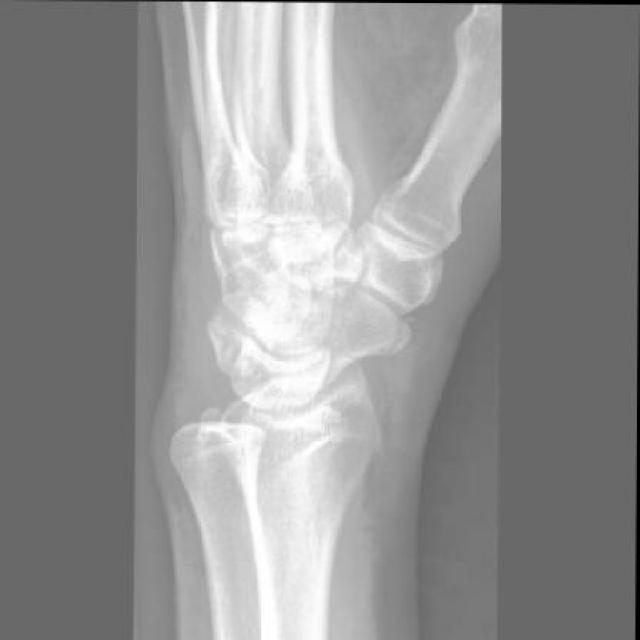Fracture: (385, 312, 412, 360)
